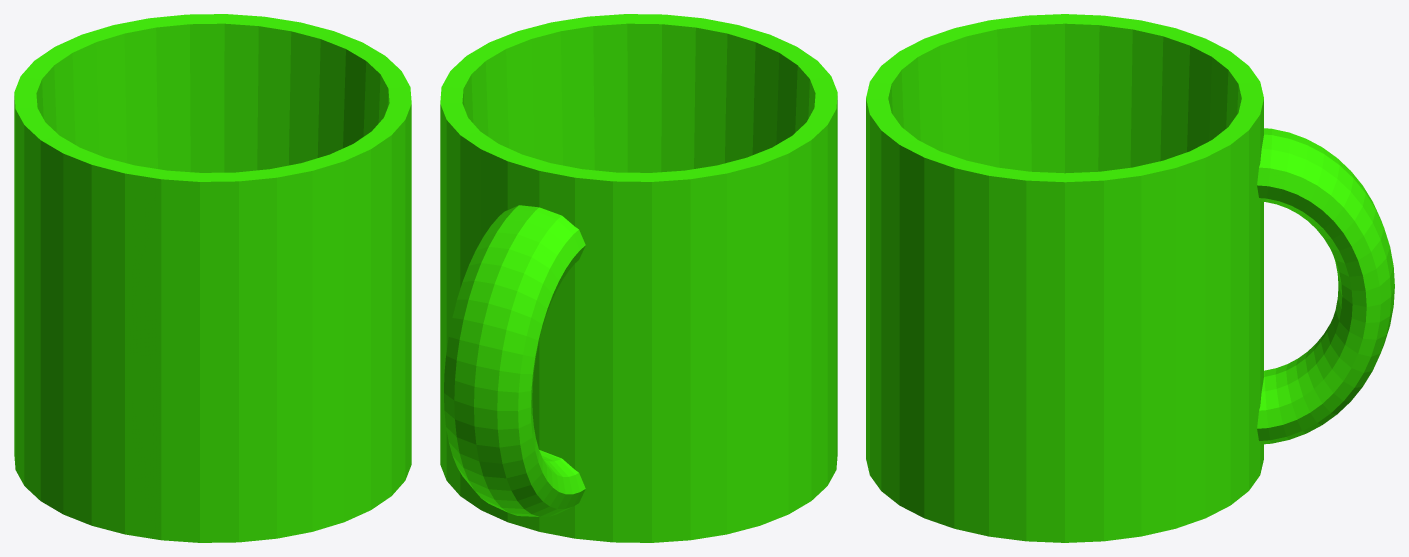
Rendered from mug.glb.
3 views of the same model, side by side, from view 1: azimuth 30°, elevation 25°; view 2: azimuth 150°, elevation 25°; view 3: azimuth 270°, elevation 25° (orthographic).
Visible parts, largest first — view 1: Cylinder; view 2: Cylinder; view 3: Cylinder.
Part boxes in pixels (left/top/right/bottom): Cylinder: left=14, top=14, right=411, bottom=542; Cylinder: left=440, top=14, right=837, bottom=542; Cylinder: left=866, top=14, right=1394, bottom=542.
Size of the model in its own units: 0.6 by 0.6 by 0.7973.
